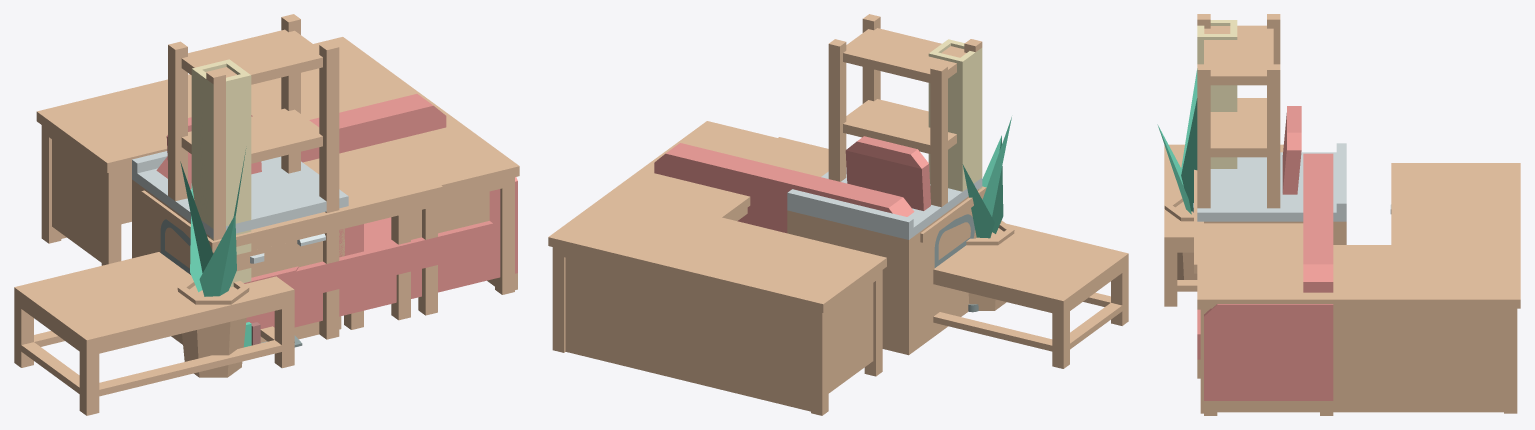
The model's file is office.glb.
3 renders of one model, left to right at view 1: azimuth 30°, elevation 25°; view 2: azimuth 150°, elevation 25°; view 3: azimuth 270°, elevation 25°, orthographic. The views are drawn at different scales.
Visible parts, largest first — view 1: Mesh deskCorner, tableCoffee(Clone), bookcaseOpen(Clone), loungeSofa(Clone), Mesh desk, lampSquareFloor(Clone), Mesh kitchenCabinet, plant, Mesh pottedPlant, kitchenBar(Clone), loungeChair(Clone), chair (+2 smaller); view 2: Mesh deskCorner, tableCoffee(Clone), bookcaseOpen(Clone), Mesh kitchenCabinet, loungeSofa(Clone), chair, lampSquareFloor(Clone), Mesh desk, plant, loungeChair(Clone), Mesh pottedPlant; view 3: Mesh deskCorner, loungeSofa(Clone), bookcaseOpen(Clone), Mesh desk, Mesh kitchenCabinet, tableCoffee(Clone), kitchenBar(Clone), lampSquareFloor(Clone), plant, chair, loungeChair(Clone), Mesh pottedPlant.
Part boxes in pixels (x1,y1,x2,y2): Mesh deskCorner: (36,37,519,320); tableCoffee(Clone): (14,252,294,415); bookcaseOpen(Clone): (168,14,339,339); loungeSofa(Clone): (159,94,517,328); Mesh desk: (141,143,442,315); lampSquareFloor(Clone): (191,59,251,287); Mesh kitchenCabinet: (132,151,348,344); plant: (180,148,246,296); Mesh pottedPlant: (177,277,249,377); kitchenBar(Clone): (176,168,348,219); loungeChair(Clone): (156,167,363,329); chair: (160,115,298,283); Mesh deskCorner: (548,121,886,415); tableCoffee(Clone): (933,223,1128,368); bookcaseOpen(Clone): (828,14,982,207); Mesh kitchenCabinet: (787,173,982,355); loungeSofa(Clone): (654,143,911,230); chair: (845,136,974,267); lampSquareFloor(Clone): (928,39,982,191); Mesh desk: (748,137,986,345); plant: (962,117,1011,238); loungeChair(Clone): (777,176,914,233); Mesh pottedPlant: (966,220,1014,310); Mesh deskCorner: (1197,163,1520,413); loungeSofa(Clone): (1197,195,1333,415); bookcaseOpen(Clone): (1197,14,1280,208); Mesh desk: (1194,169,1303,378); Mesh kitchenCabinet: (1197,143,1346,244); tableCoffee(Clone): (1164,144,1283,306); kitchenBar(Clone): (1197,157,1266,212); lampSquareFloor(Clone): (1197,20,1237,168); plant: (1157,68,1197,214); chair: (1282,106,1301,194); loungeChair(Clone): (1303,153,1333,195); Mesh pottedPlant: (1164,193,1197,279).
Bounding box in the file's own units: 1.44 × 0.88 × 1.1.
